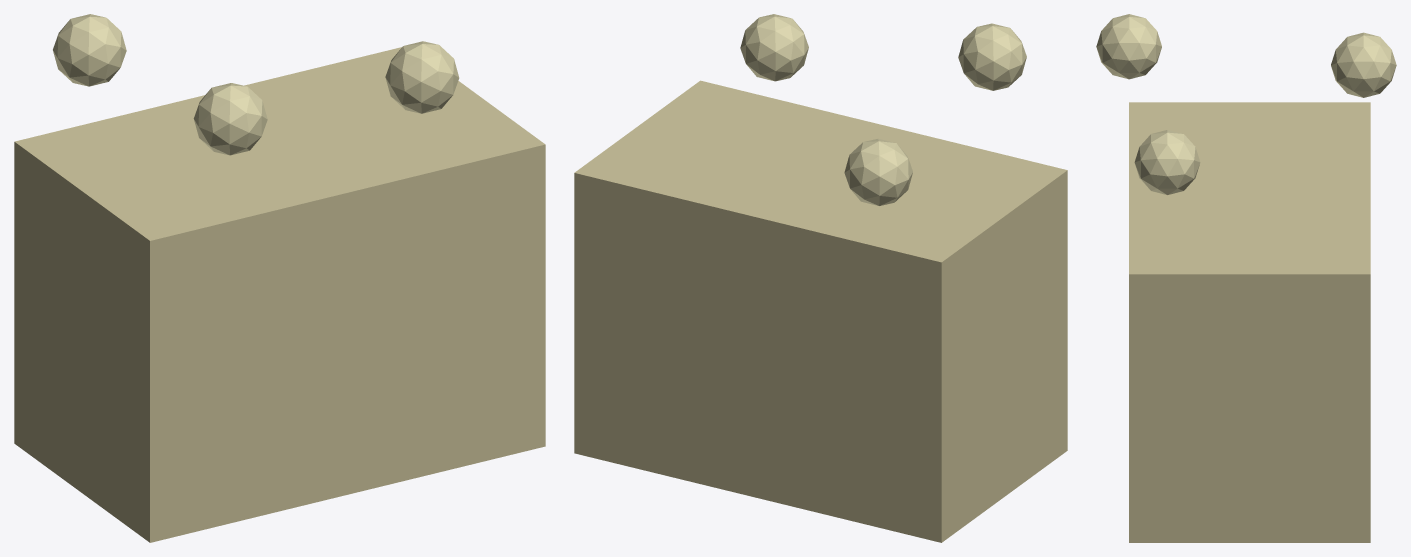
File: eternity_wraith.glb
The picture shows the model from 3 angles, left to right: view 1: azimuth 30°, elevation 25°; view 2: azimuth 150°, elevation 25°; view 3: azimuth 270°, elevation 25°; orthographic projection. The views are drawn at different scales.
Parts seen in each view (by area): view 1: geometry_0; view 2: geometry_0; view 3: geometry_0.
Part boxes in pixels (x1,y1,x2,y2): geometry_0: [14, 14, 545, 542]; geometry_0: [574, 14, 1067, 542]; geometry_0: [1096, 14, 1396, 542].
Bounding box in the file's own units: 0.74 × 0.7824 × 0.547.
